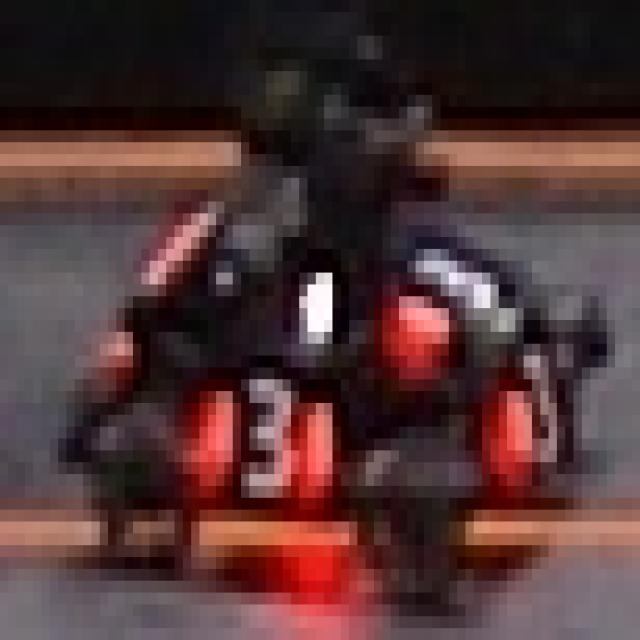R3: (191, 367, 341, 498)
